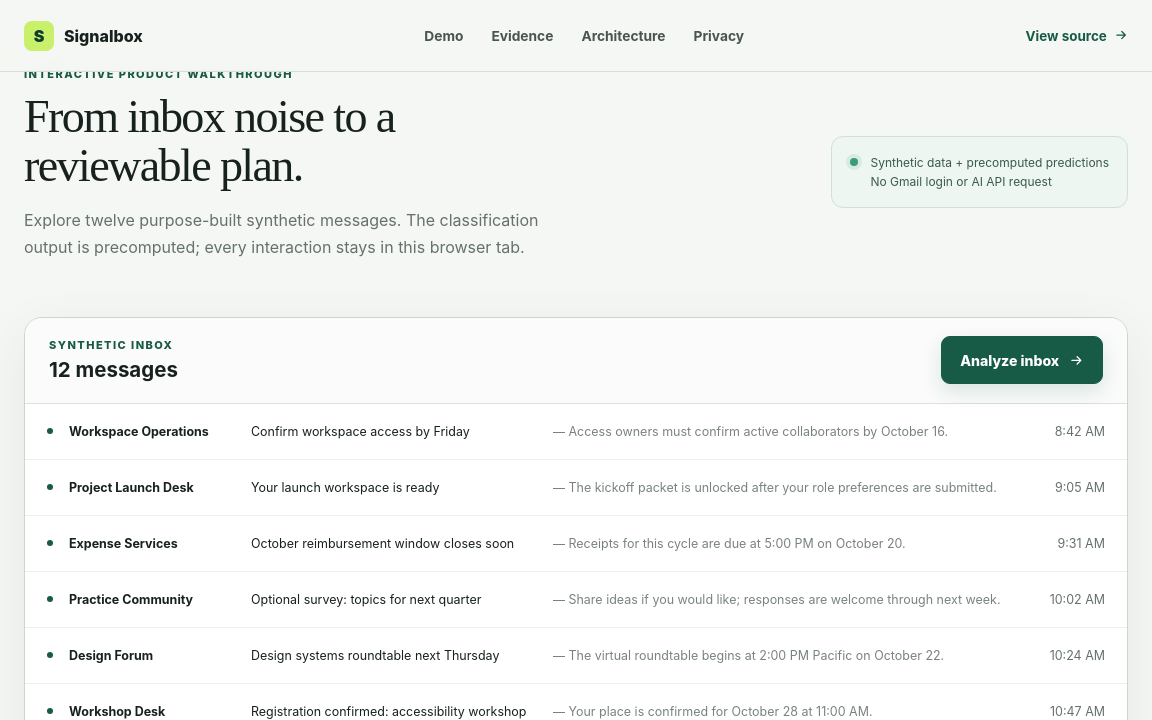
Test case: public recruiter demo › moves a message when a user corrects its route
(page scrolled)
Click the button "Analyze inbox": {"x": 1022, "y": 360} [941,336,1103,384]
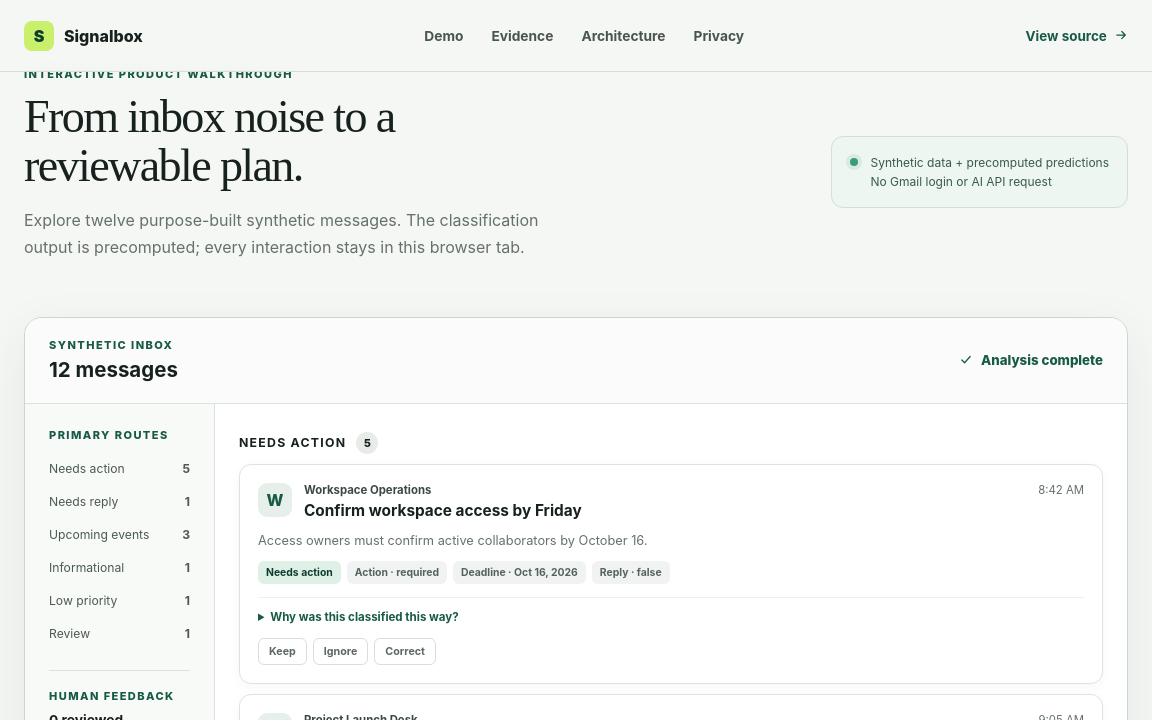
Check: the element "Confirm workspace access by Friday" is shown, box [239,464,1103,684]
Click the button "Correct": {"x": 405, "y": 652} [374,638,436,665]
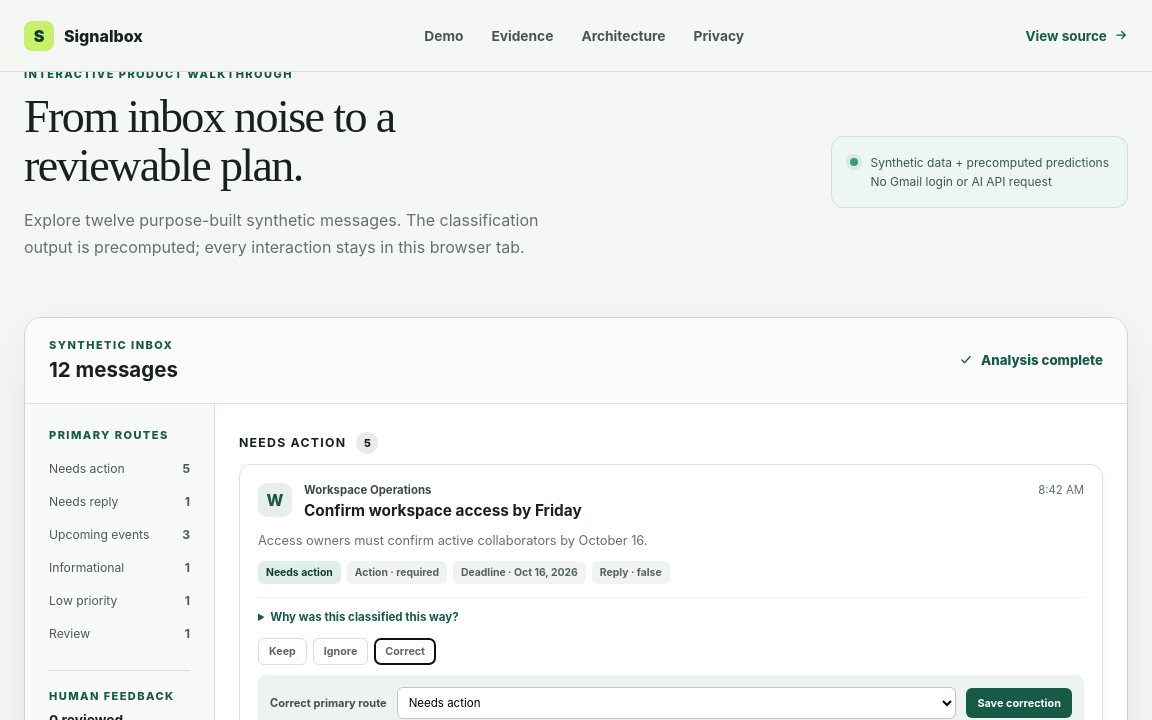
Select "Review" in the dropdown labelled "Correct primary route": {"x": 677, "y": 703} [397,687,956,719]
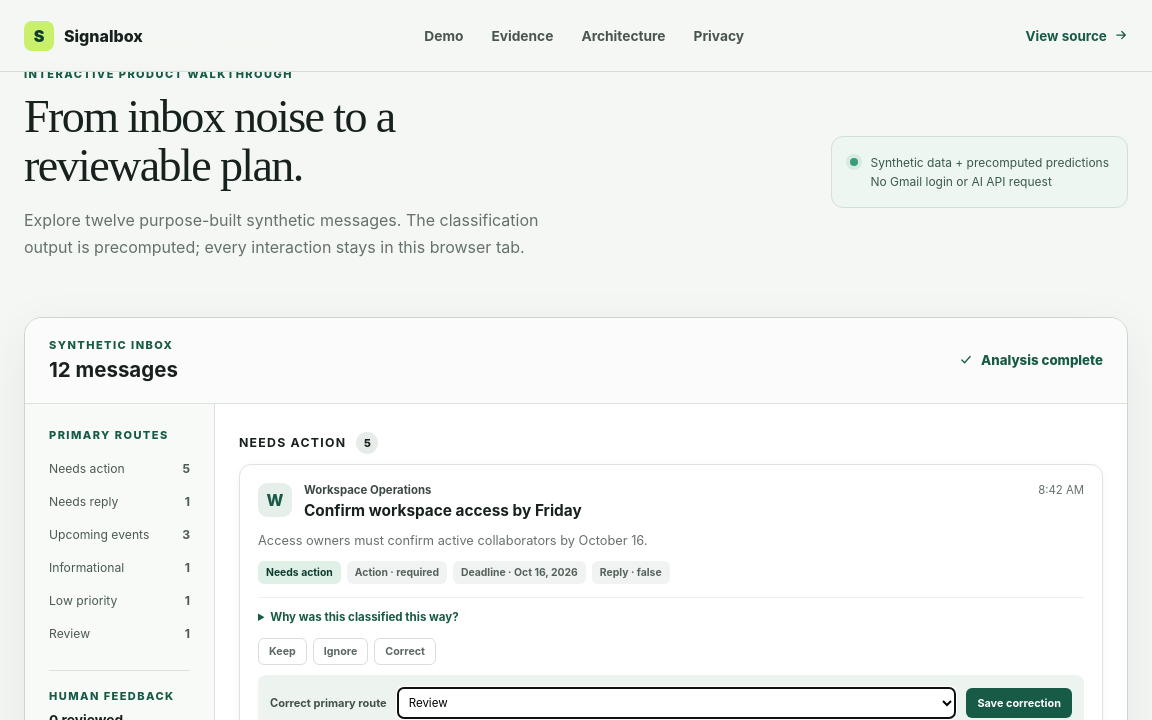
Click the button "Save correction": {"x": 1019, "y": 703} [966,688,1072,718]
(page scrolled)
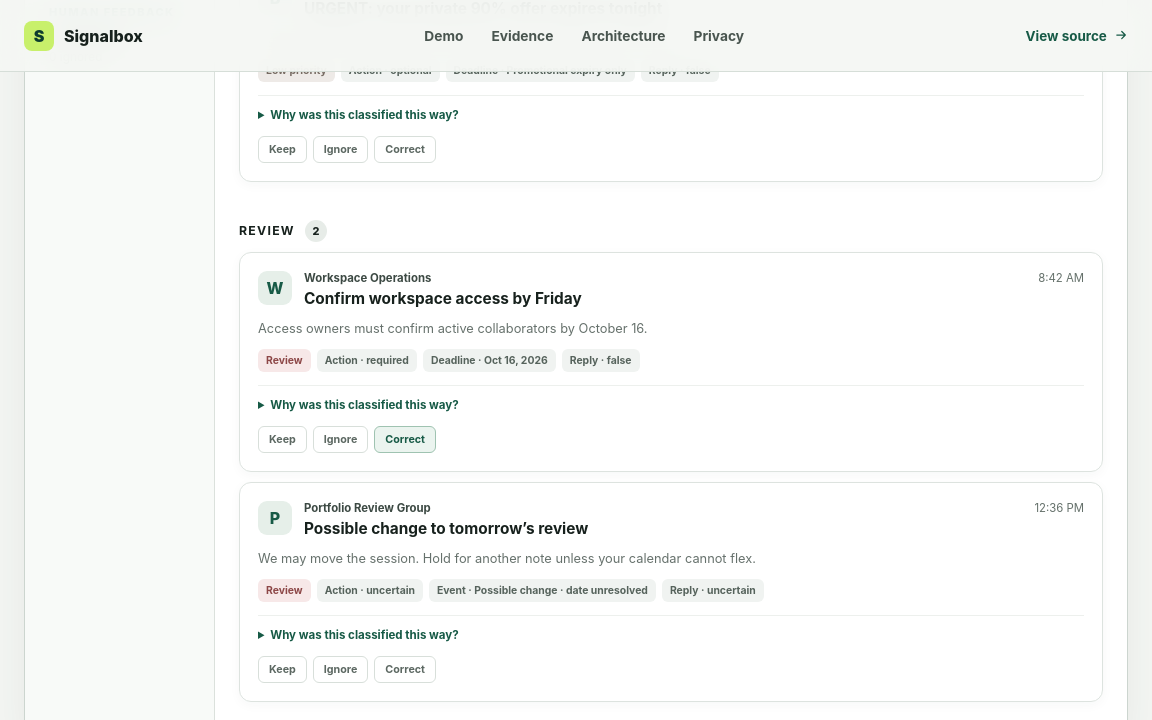
Check: the text "Review" in the row of "Oct 16, 2026" is shown, box [266,354,303,367]
